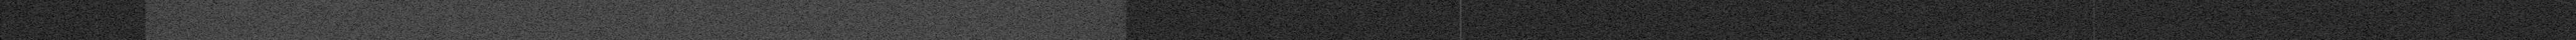wv_am: (2093, 0, 2096, 40)
wv_cw: (1459, 0, 1462, 40)
wv_dvbt_8kfft: (113, 0, 1171, 40)
wv_lsb: (18, 18, 20, 25), (16, 0, 20, 3), (16, 37, 20, 40), (16, 15, 20, 17), (18, 3, 20, 7), (18, 30, 20, 32)
wv_usb: (95, 15, 99, 35), (95, 37, 99, 40), (95, 7, 99, 10), (95, 0, 99, 3), (95, 13, 99, 15), (95, 5, 99, 7)
